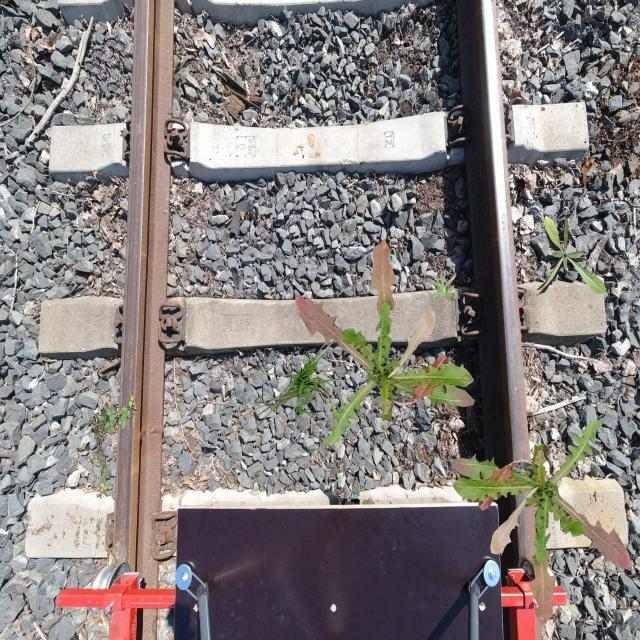Plant: (295, 238, 475, 447), (451, 418, 631, 626), (235, 326, 354, 448), (535, 215, 606, 296), (89, 395, 138, 498), (424, 268, 456, 302)
